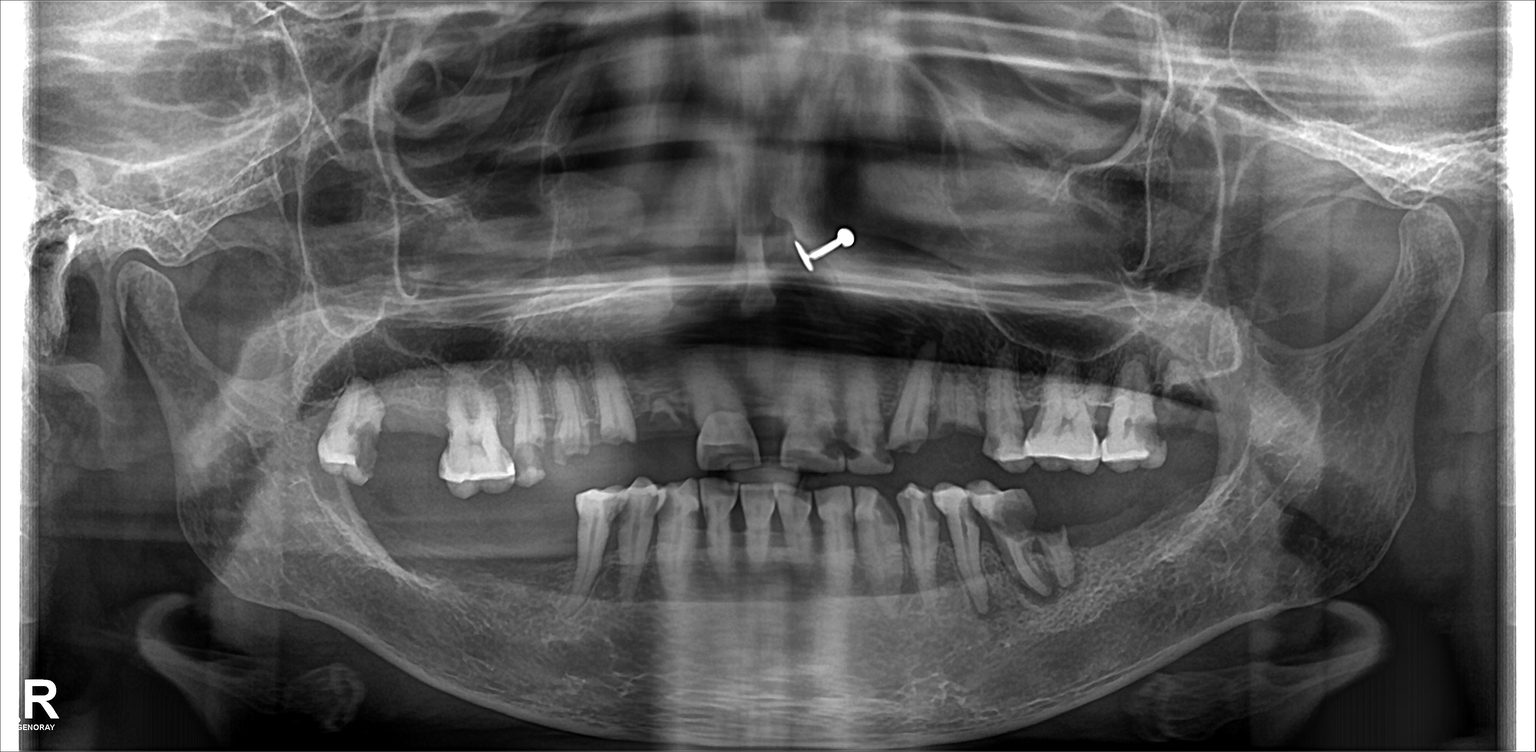Dental Caries: (987, 490, 1032, 538), (750, 410, 794, 444), (638, 401, 679, 434), (823, 426, 860, 459), (350, 425, 382, 462), (1123, 410, 1153, 448), (510, 441, 539, 474)
Missing Tooth: (501, 517, 560, 627), (384, 382, 439, 486), (1170, 486, 1216, 581), (1080, 484, 1120, 585), (451, 510, 492, 602), (367, 499, 405, 582), (410, 501, 442, 594), (1127, 486, 1158, 581)
Periapical Lesion: (976, 553, 1062, 614)
Retained Root: (886, 346, 937, 462), (1155, 357, 1201, 454), (596, 359, 639, 454), (1035, 503, 1080, 593), (553, 363, 591, 468), (633, 369, 679, 453)
Tooth Fracture: (937, 372, 983, 457)
